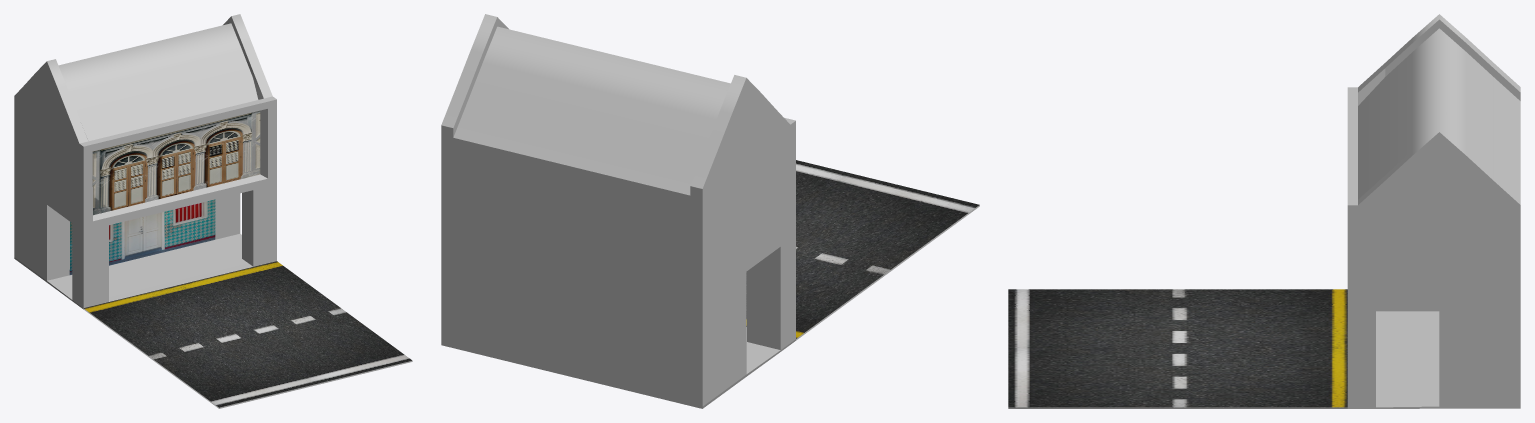
File: bigshophouse.fbx
3 views of the same model, side by side, from view 1: azimuth 30°, elevation 25°; view 2: azimuth 150°, elevation 25°; view 3: azimuth 270°, elevation 25° (orthographic). The views are drawn at different scales.
Parts seen in each view (by area): view 1: Shophouse16; view 2: Shophouse16; view 3: Shophouse16.
Part boxes in pixels (x1,y1,x2,y2): Shophouse16: (14,14,412,408); Shophouse16: (441,14,979,408); Shophouse16: (1008,14,1520,408).
Bounding box in the file's own units: 659 × 721 × 1209.
